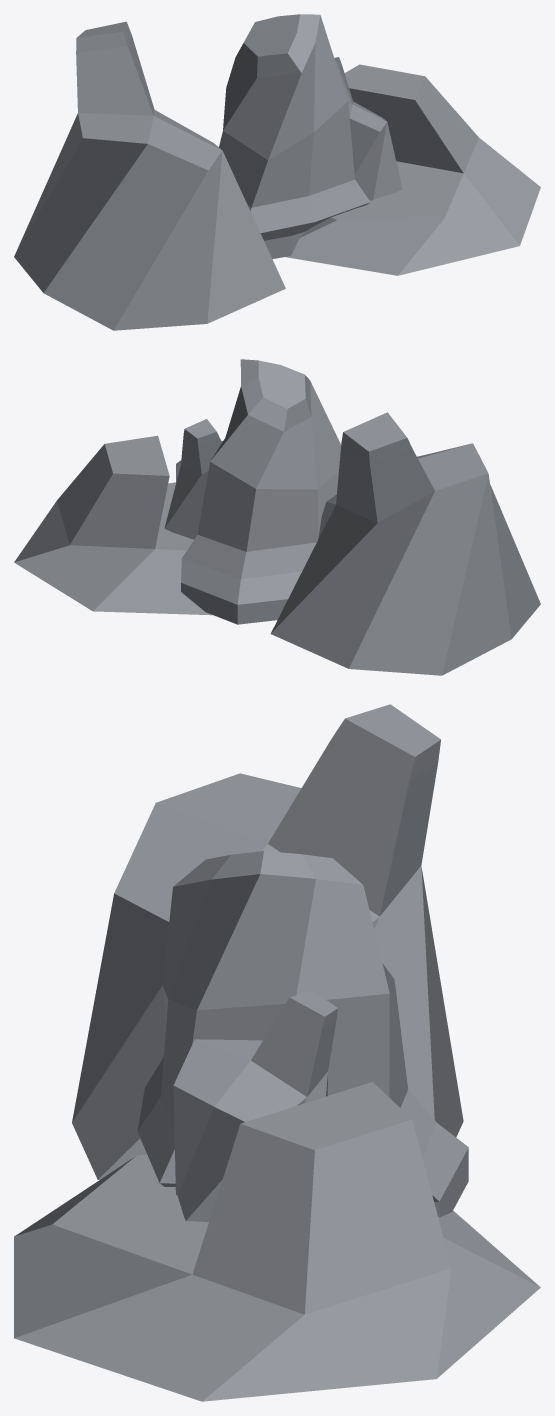
The model's file is Rock_v16.fbx.
The picture shows the model from 3 angles, top to bottom: view 1: azimuth 30°, elevation 25°; view 2: azimuth 150°, elevation 25°; view 3: azimuth 270°, elevation 25°; orthographic projection. The views are drawn at different scales.
Visible parts, largest first — view 1: Rock_v16; view 2: Rock_v16; view 3: Rock_v16.
Boxes of the visible parts, <box> form: Rock_v16: <box>14,14,540,330</box>; Rock_v16: <box>14,359,540,675</box>; Rock_v16: <box>14,704,540,1401</box>.
Bounding box in the file's own units: 77.36 × 36.29 × 43.24.
1 material, 1 textured.
